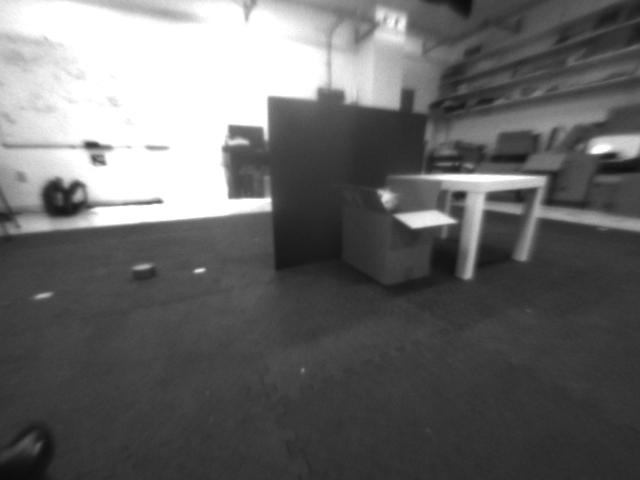dogtoy: (121, 257, 168, 285)
